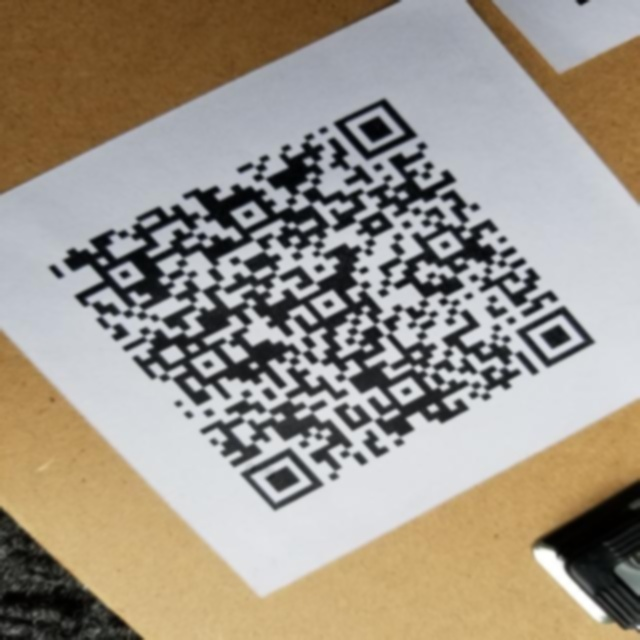qr-code: (36, 84, 608, 524)
